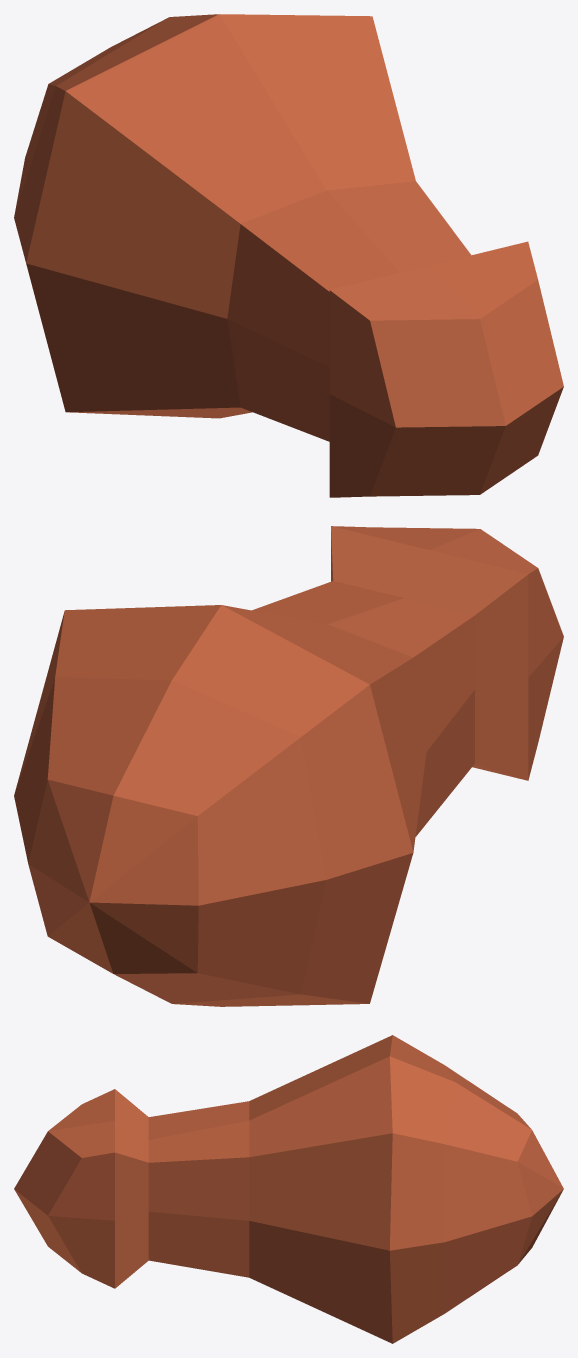
File: Cooked Drumstick.fbx
3 renders of one model, top to bottom at view 1: azimuth 30°, elevation 25°; view 2: azimuth 150°, elevation 25°; view 3: azimuth 270°, elevation 25°, orthographic. The views are drawn at different scales.
Parts seen in each view (by area): view 1: Cooked Drumstick; view 2: Cooked Drumstick; view 3: Cooked Drumstick.
Boxes of the visible parts, x1,y1,x2,y2 form: Cooked Drumstick: (14, 14, 563, 497); Cooked Drumstick: (14, 526, 563, 1006); Cooked Drumstick: (14, 1035, 563, 1343).
Bounding box in the file's own units: 7.76 × 7.76 × 14.59.
